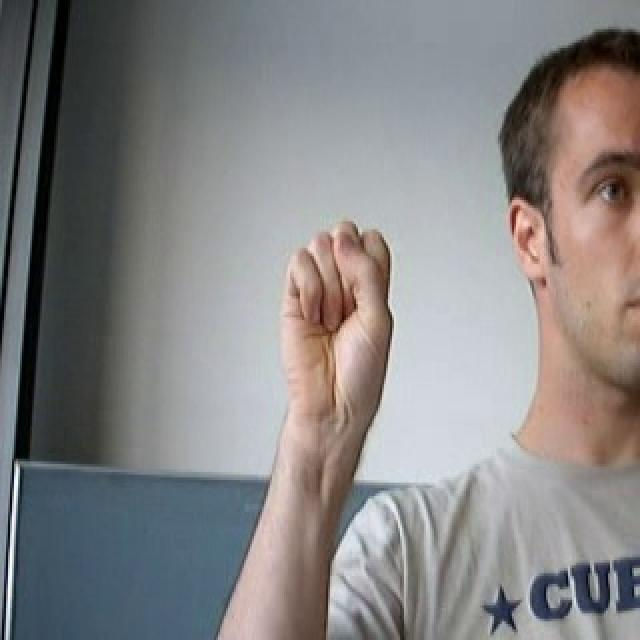S: (247, 178, 436, 494)
